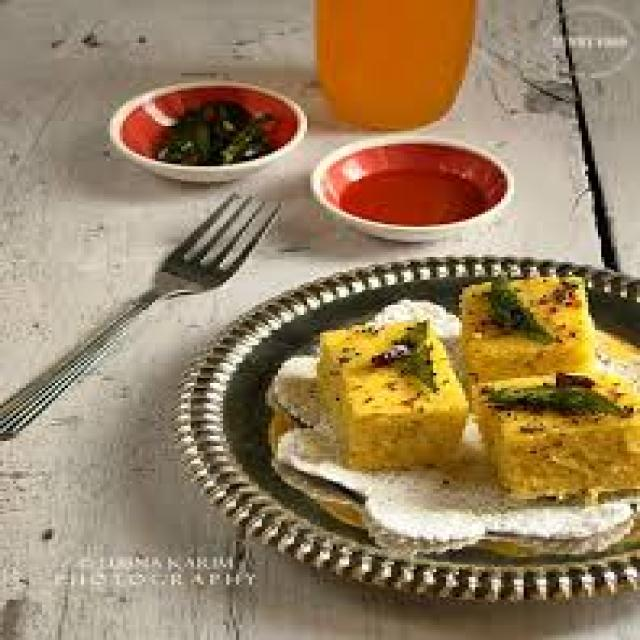DHOKLA: (473, 368, 637, 503), (320, 319, 471, 463), (457, 269, 601, 382)
